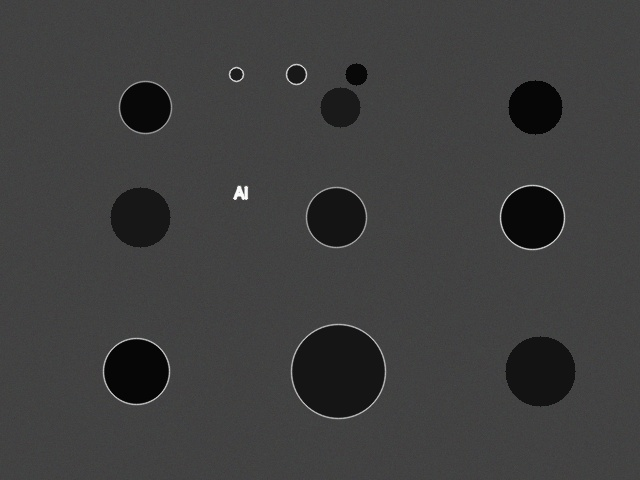hole: (291, 324, 385, 418), (505, 336, 575, 406), (103, 338, 169, 404), (500, 185, 564, 249), (110, 187, 170, 247), (306, 187, 366, 247), (508, 80, 562, 134), (119, 81, 171, 133), (320, 87, 360, 127), (345, 63, 367, 85), (286, 64, 306, 84), (229, 67, 243, 81)
